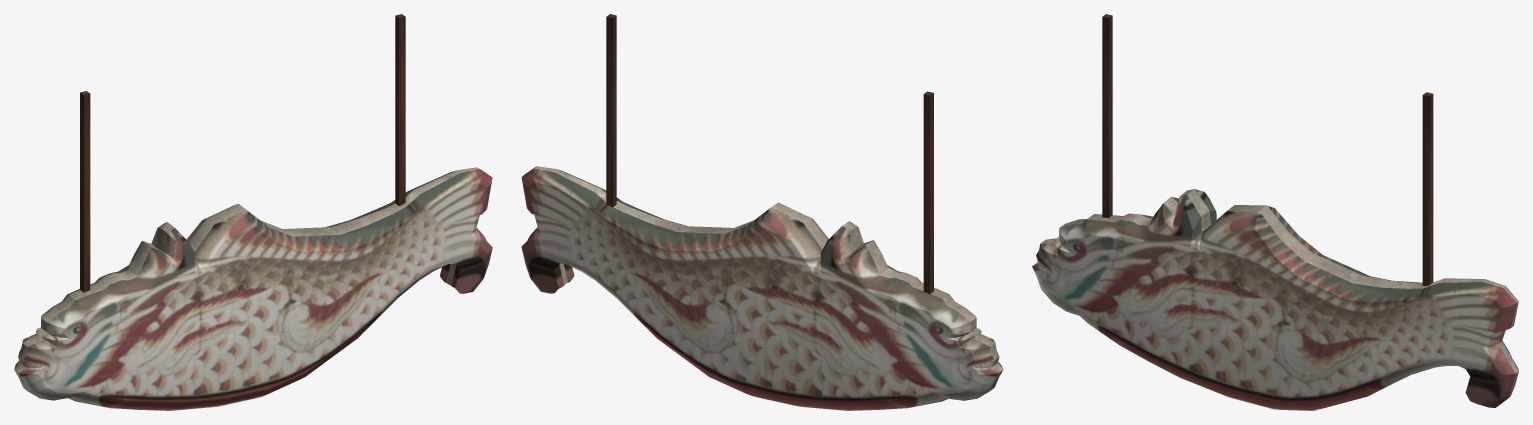
The model's file is SM_M_Fish.fbx.
3 renders of one model, left to right at view 1: azimuth 30°, elevation 25°; view 2: azimuth 150°, elevation 25°; view 3: azimuth 330°, elevation 25°, orthographic.
Parts seen in each view (by area): view 1: SM_M_Fish; view 2: SM_M_Fish; view 3: SM_M_Fish.
Boxes of the visible parts, left/top/right/bottom form: SM_M_Fish: left=14, top=14, right=492, bottom=410; SM_M_Fish: left=521, top=14, right=1003, bottom=410; SM_M_Fish: left=1032, top=14, right=1518, bottom=410.
Size of the model in its own units: 169 by 17.93 by 116.
Materials: 3 (3 with a texture image).
